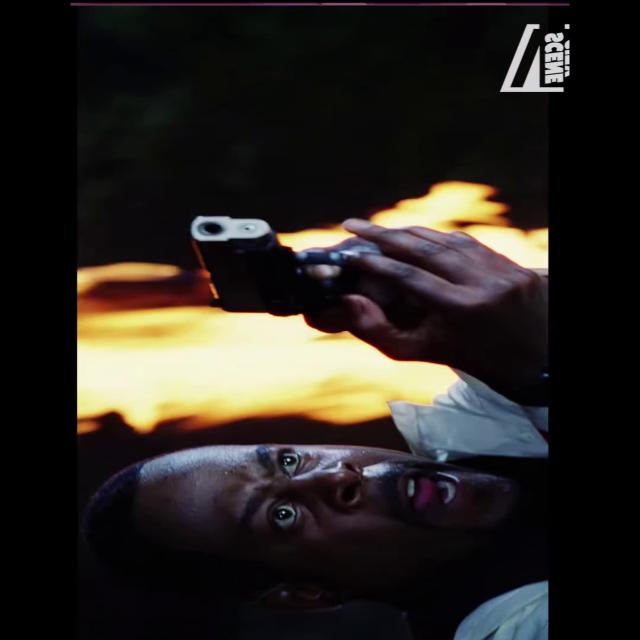weapons: (154, 203, 497, 327)
